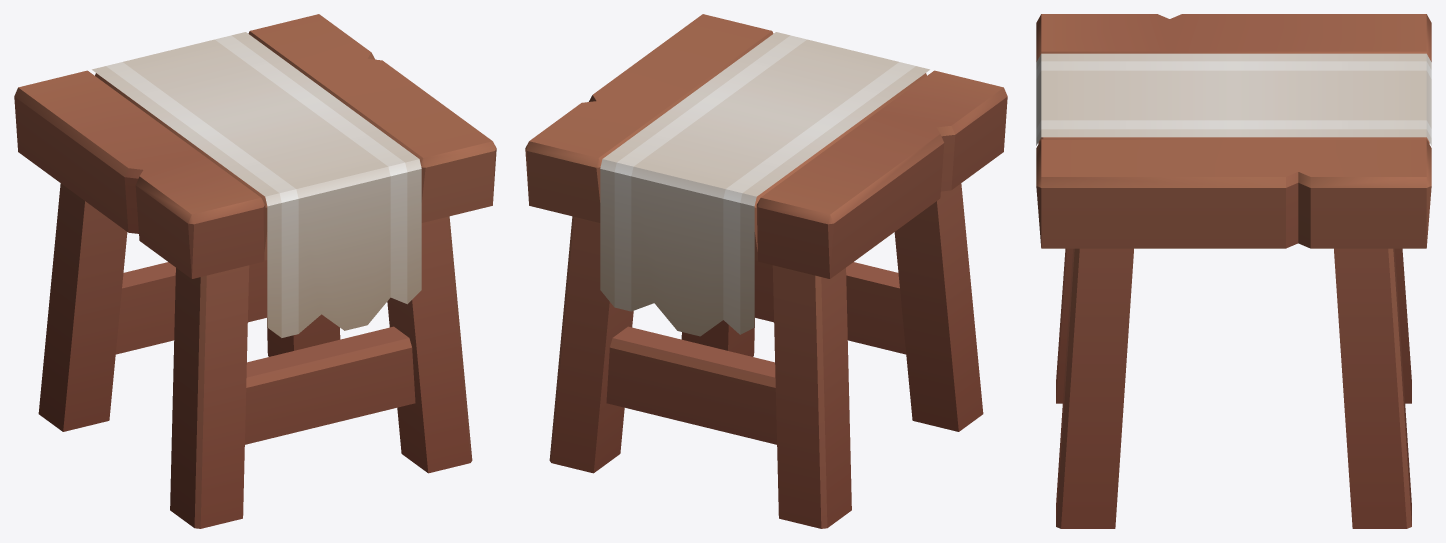
The model's file is altar.glb.
3 views of the same model, side by side, from view 1: azimuth 30°, elevation 25°; view 2: azimuth 150°, elevation 25°; view 3: azimuth 270°, elevation 25° (orthographic). The views are drawn at different scales.
Visible parts, largest first — view 1: table_medium_tablecloth; view 2: table_medium_tablecloth; view 3: table_medium_tablecloth.
Boxes of the visible parts, x1,y1,x2,y2 form: table_medium_tablecloth: (14, 14, 496, 528); table_medium_tablecloth: (525, 14, 1007, 528); table_medium_tablecloth: (1036, 14, 1431, 528).
Bounding box in the file's own units: 1 × 1 × 1.
Materials: 1 (1 with a texture image).
